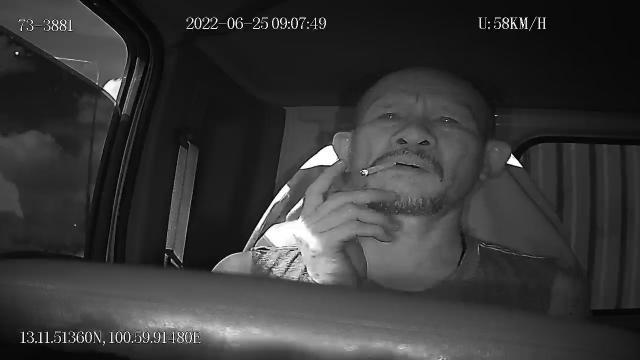SafeDriving: (424, 107, 466, 135), (368, 102, 408, 130)
Smoking: (362, 160, 396, 176)
